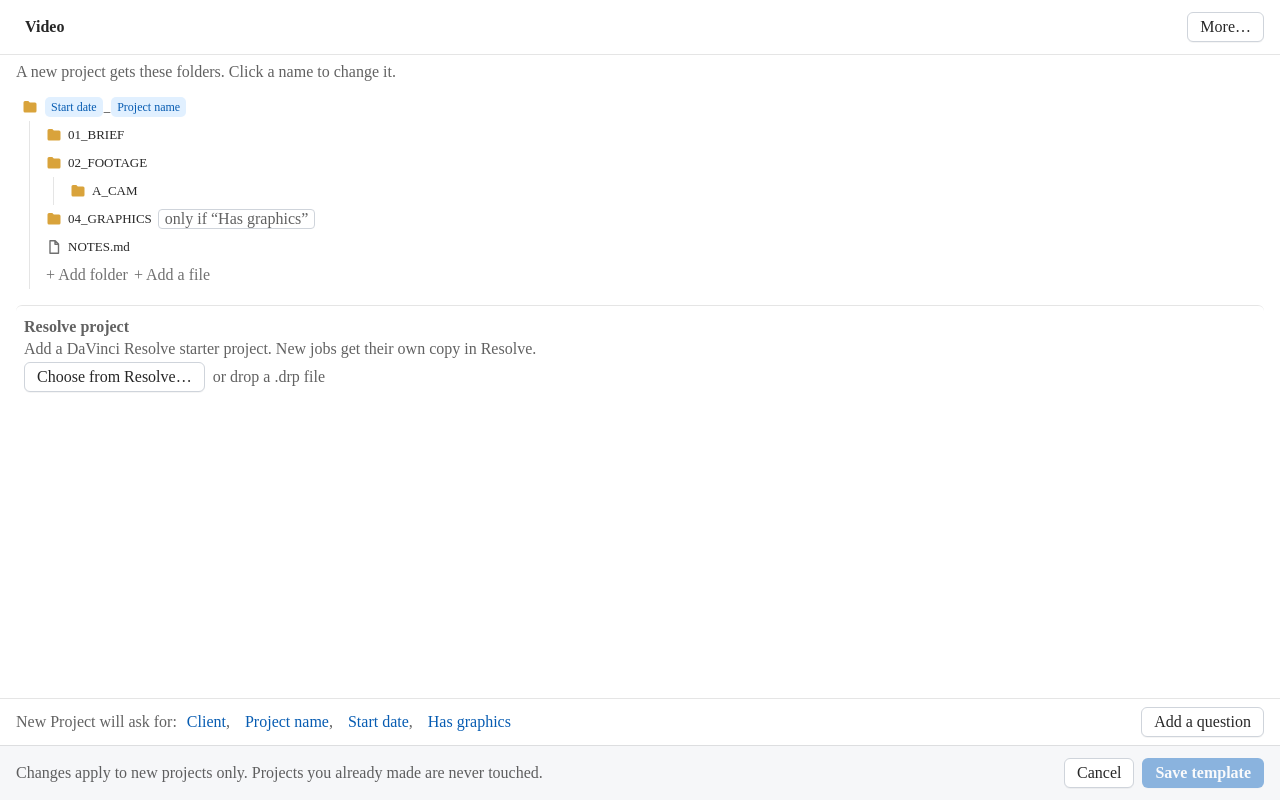
TemplateEditor (one screen) › changes a question's settings from the bottom line
Click the button "Has graphics". click: (469, 722)
box: [428, 713, 511, 731]
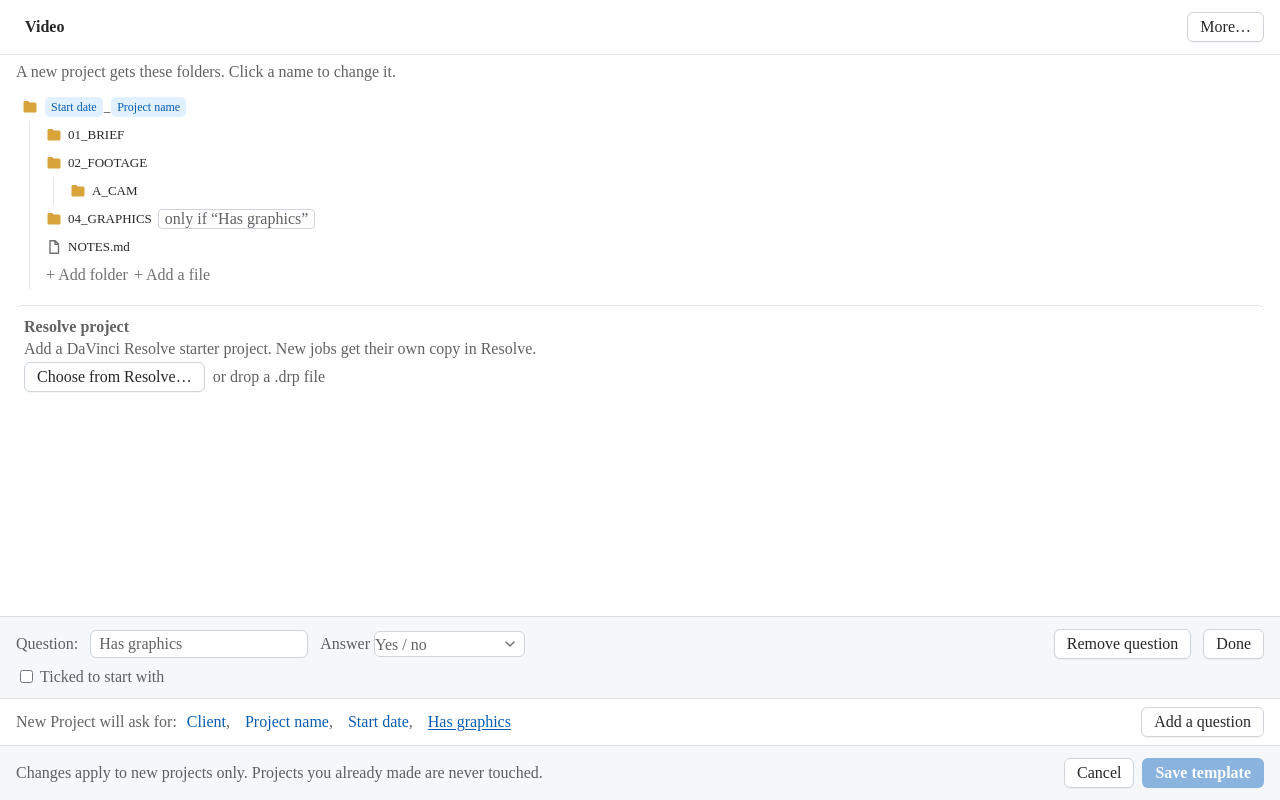
Expected: the element named "Question: Has graphics" is shown, [0, 616, 1279, 698]
Replace the text in the field named "Question" with "Graphics". click: (199, 644)
box: [90, 630, 308, 658]
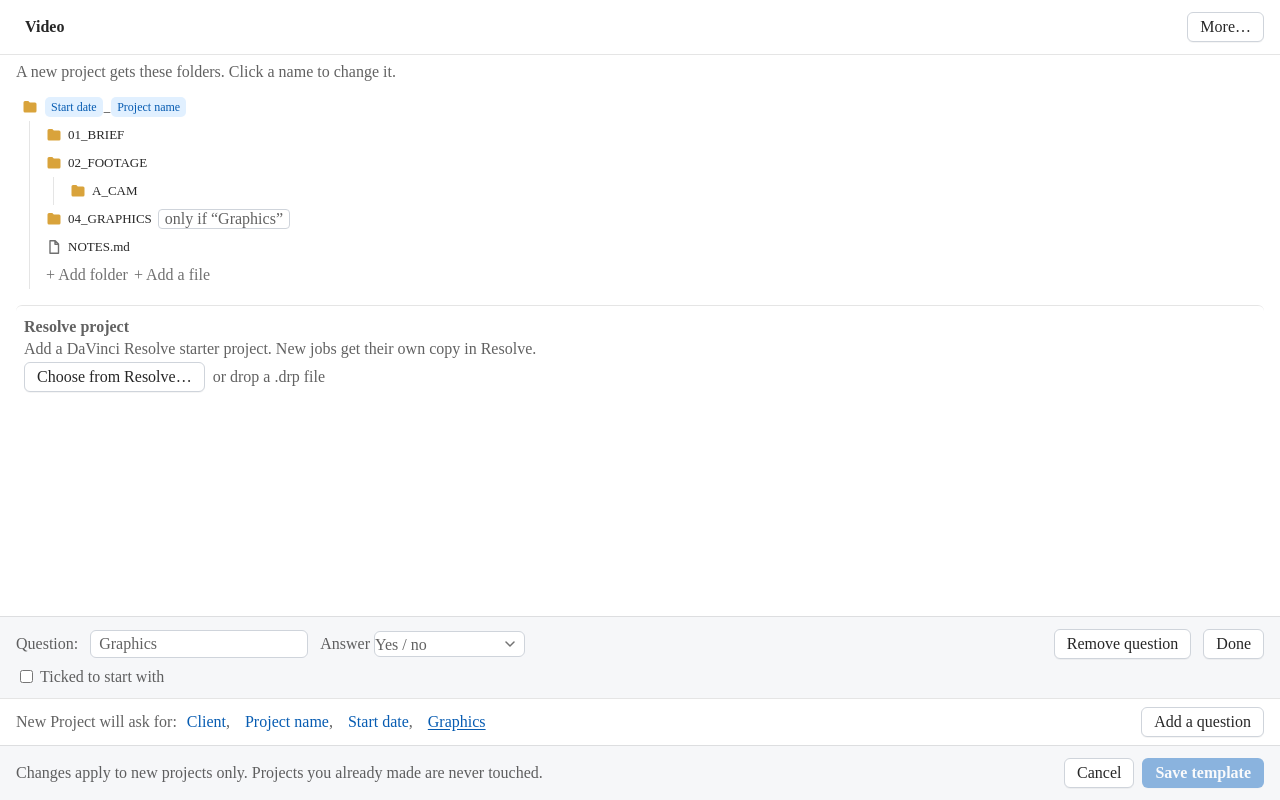
Expected: the text "only if “Graphics”" is shown, [158, 209, 290, 229]
Click the button "Remove question". click: (1123, 644)
box: [1054, 629, 1191, 659]
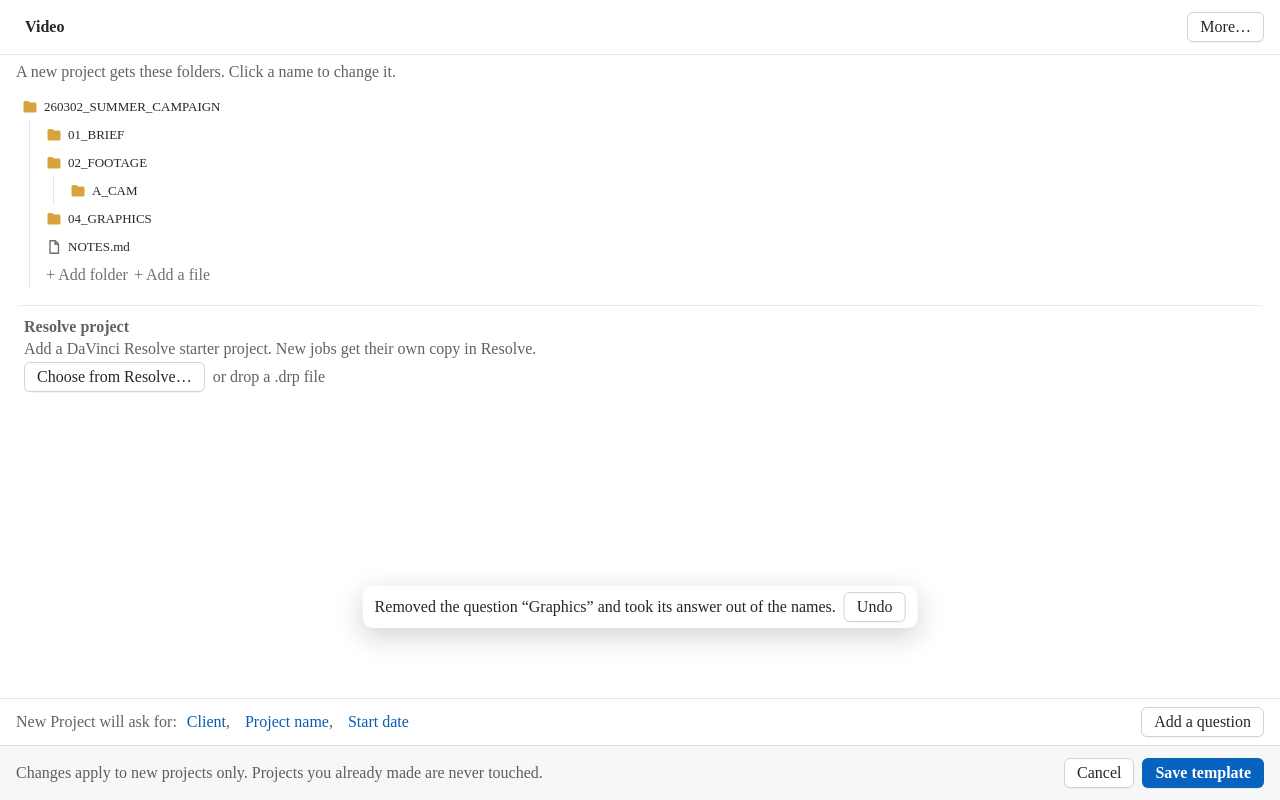
Expected: the text "only if" is gone
Expected: the message shows "Removed the question", [375, 598, 836, 615]
